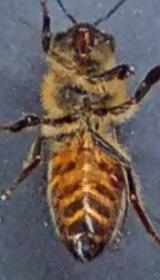varroa_mite: (99, 156, 132, 197)
